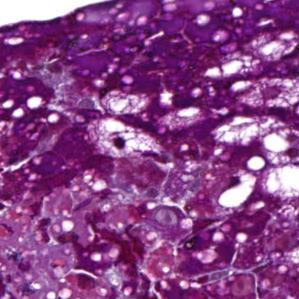ballooning: (86, 114, 167, 164)
